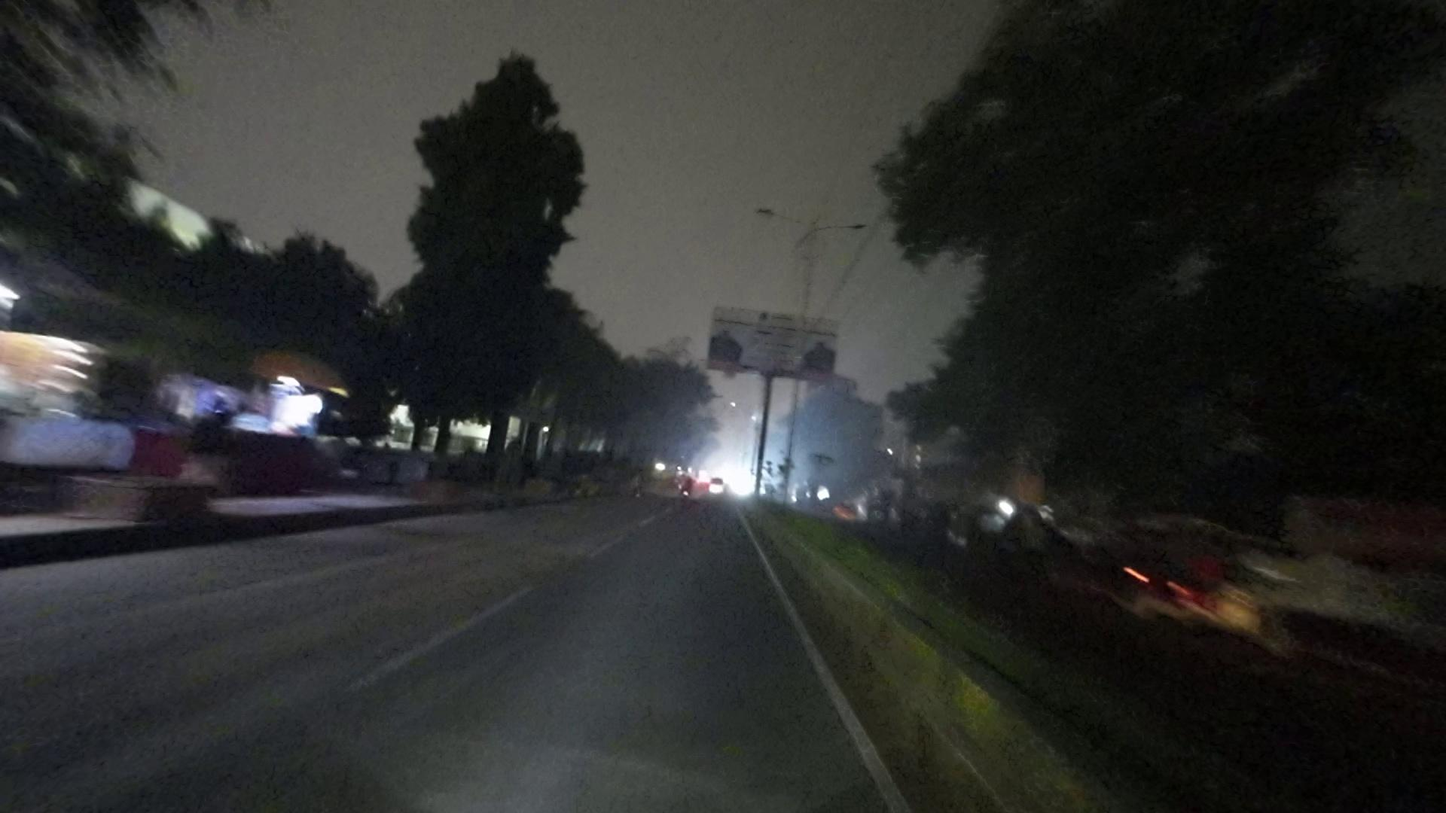streetlight: (755, 206, 812, 229), (816, 222, 868, 235)
